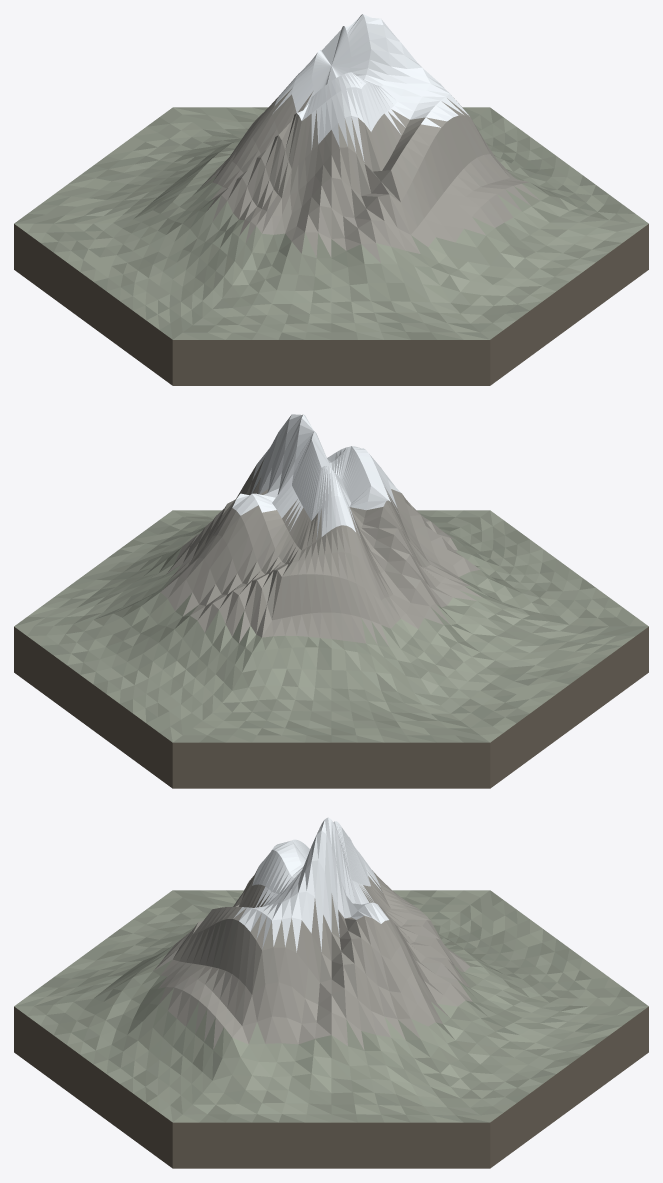
The model's file is TERRAIN_TUNDRA_MOUNTAIN_v01.fbx.
The picture shows the model from 3 angles, top to bottom: view 1: azimuth 30°, elevation 25°; view 2: azimuth 150°, elevation 25°; view 3: azimuth 270°, elevation 25°; orthographic projection.
Visible parts, largest first — view 1: TERRAIN_TUNDRA_MOUNTAIN_v01; view 2: TERRAIN_TUNDRA_MOUNTAIN_v01; view 3: TERRAIN_TUNDRA_MOUNTAIN_v01.
Boxes of the visible parts, x1,y1,x2,y2 form: TERRAIN_TUNDRA_MOUNTAIN_v01: [14, 14, 648, 385]; TERRAIN_TUNDRA_MOUNTAIN_v01: [14, 414, 648, 788]; TERRAIN_TUNDRA_MOUNTAIN_v01: [14, 817, 648, 1168].
Size of the model in its own units: 173 by 86.73 by 200.
